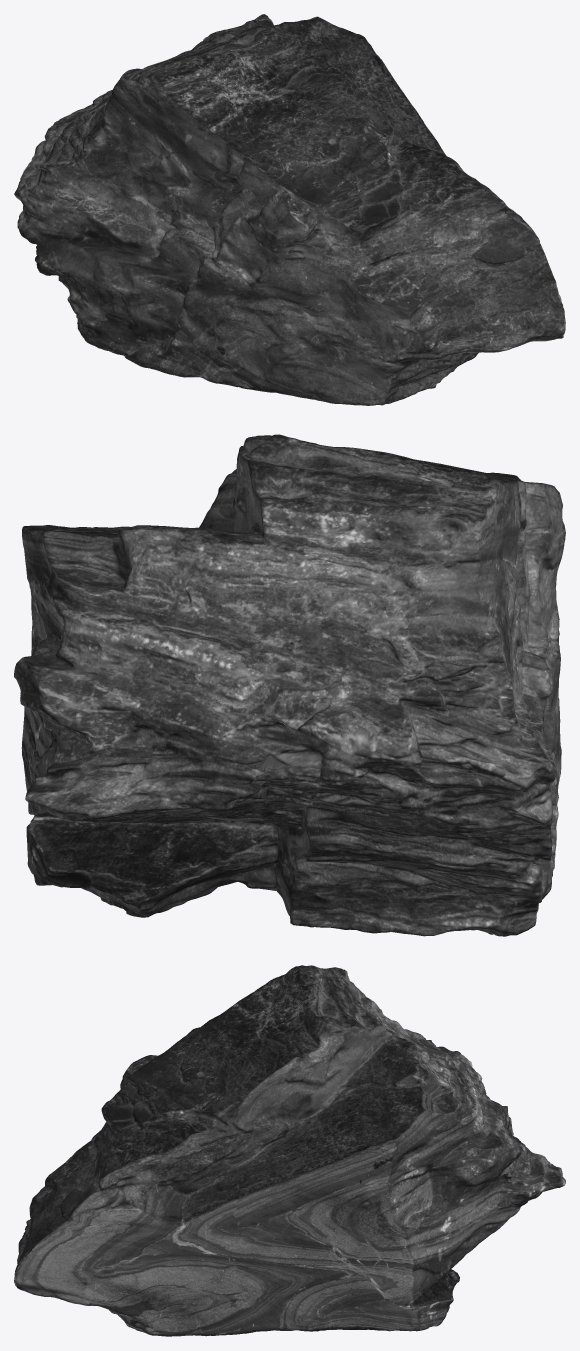
The model's file is Main BW.glb.
3 renders of one model, top to bottom at view 1: azimuth 30°, elevation 25°; view 2: azimuth 150°, elevation 25°; view 3: azimuth 270°, elevation 25°, orthographic. The views are drawn at different scales.
Visible parts, largest first — view 1: Metashape to blender new atlas; view 2: Metashape to blender new atlas; view 3: Metashape to blender new atlas.
Part boxes in pixels (x1,y1,x2,y2): Metashape to blender new atlas: [14, 14, 565, 405]; Metashape to blender new atlas: [14, 434, 565, 936]; Metashape to blender new atlas: [14, 965, 565, 1336].
Size of the model in its own units: 0.1259 by 0.0959 by 0.18.
Materials: 1 (1 with a texture image).
